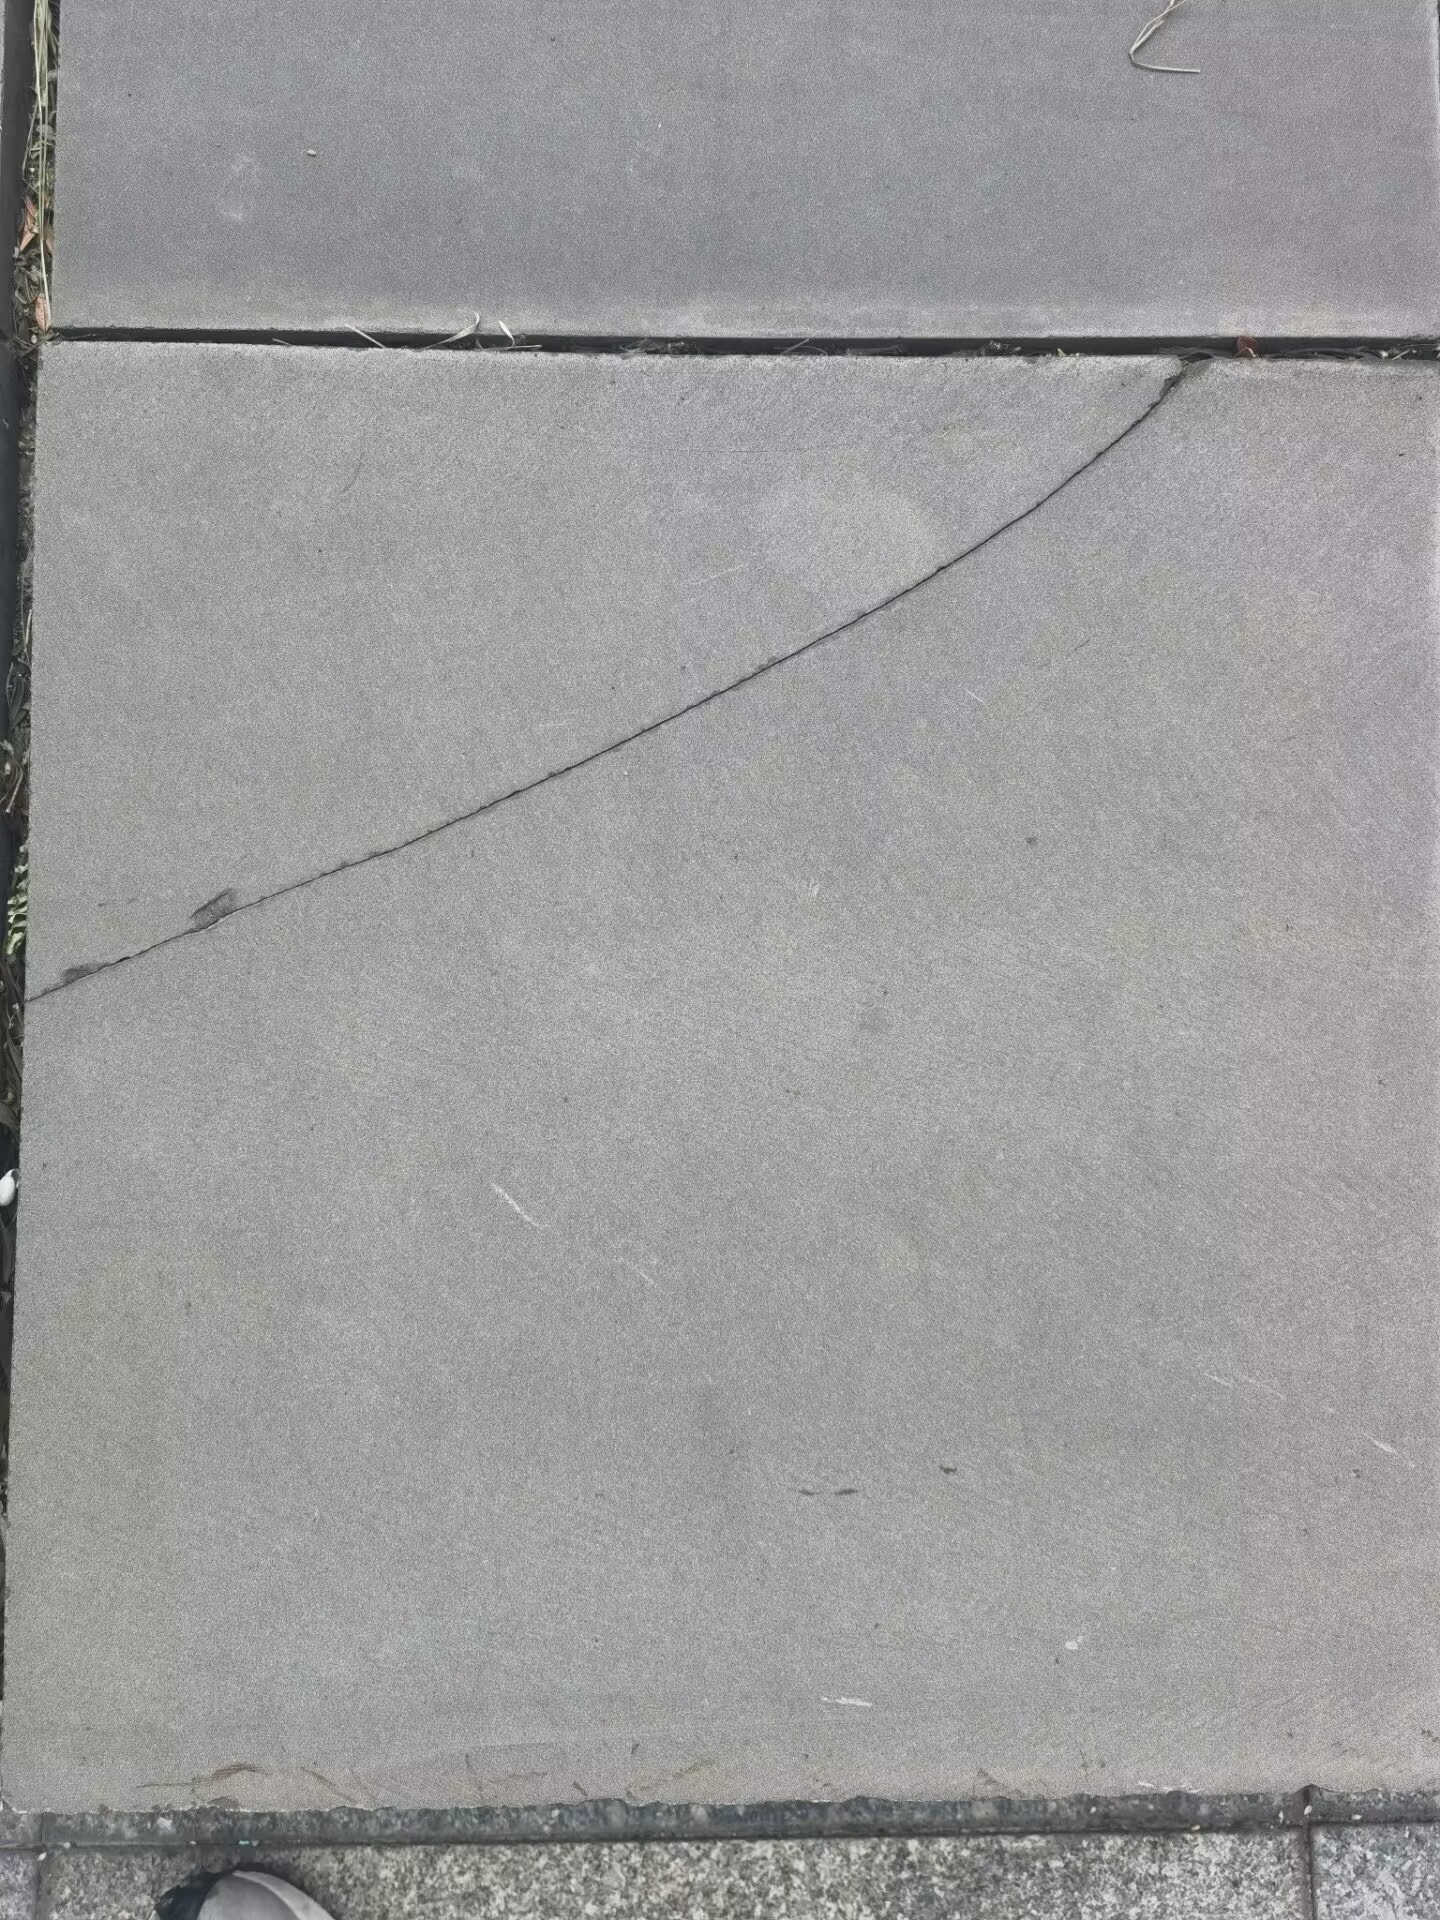TILE: (22, 361, 1233, 1024)
